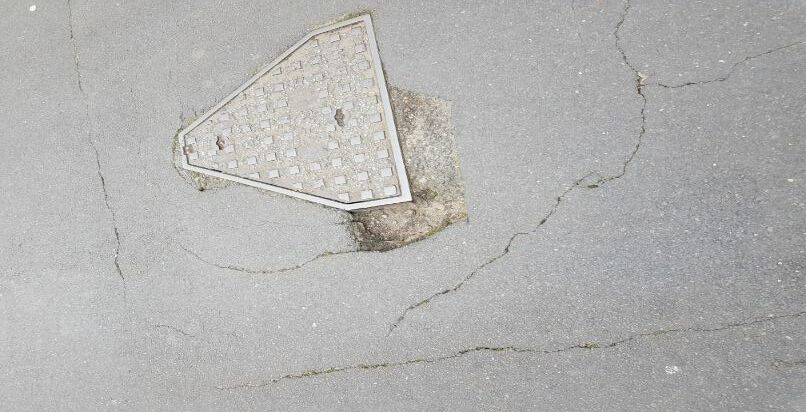pothole: (339, 82, 474, 261)
